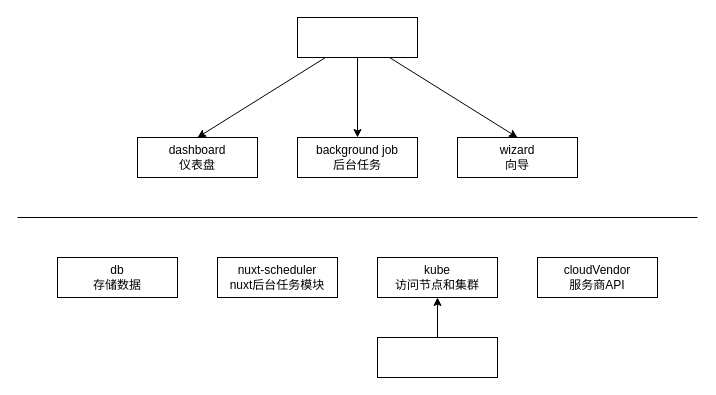
Image size: 716x395. Some labels were removed from this diagram. The centre of each missing label's shape, as x and y in pixels:
ssh2 在服务器执行操作: the point at 437,357
用户: the point at 357,37
